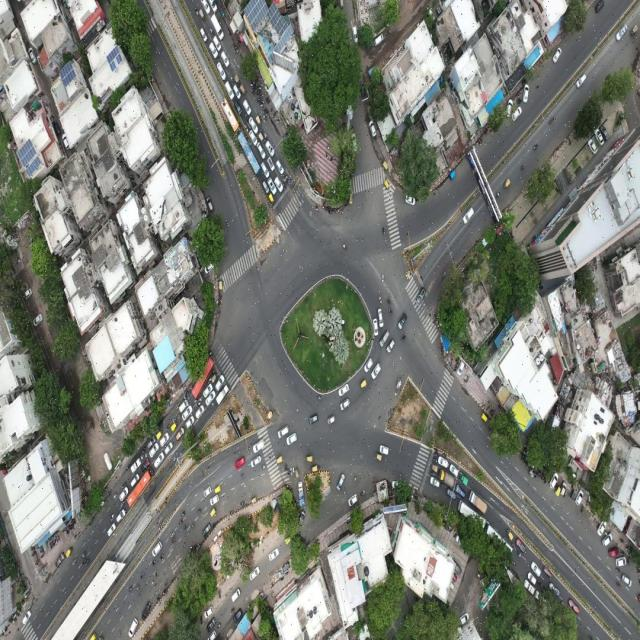3W: (629, 18, 640, 37), (477, 410, 489, 426), (501, 177, 513, 191), (272, 451, 284, 464), (505, 525, 514, 542), (64, 544, 74, 559), (216, 276, 225, 292), (198, 5, 206, 23), (303, 452, 314, 465), (170, 419, 180, 433), (449, 170, 459, 184), (569, 488, 578, 503), (309, 464, 321, 475), (373, 450, 384, 462), (357, 378, 369, 389), (382, 160, 392, 173), (382, 178, 391, 192), (213, 482, 223, 494), (283, 534, 292, 547), (234, 71, 241, 87), (248, 496, 259, 506), (429, 462, 439, 473), (155, 427, 164, 439), (211, 371, 218, 385), (258, 132, 265, 146), (240, 84, 247, 98), (554, 486, 562, 498), (268, 193, 275, 206), (89, 630, 98, 640), (209, 506, 216, 518), (295, 466, 301, 480), (256, 116, 262, 128)
Bus: (189, 352, 218, 402), (125, 464, 156, 509), (237, 130, 263, 176), (484, 520, 513, 558), (457, 498, 487, 530), (222, 96, 240, 134)
Cars: (566, 593, 580, 615), (452, 480, 467, 500), (615, 21, 629, 42), (224, 76, 235, 102), (462, 206, 475, 226), (551, 44, 564, 64), (586, 137, 599, 157), (529, 558, 542, 578), (141, 599, 152, 622), (335, 471, 346, 494), (592, 127, 604, 148), (128, 614, 138, 639), (234, 453, 247, 472), (415, 287, 426, 309), (201, 380, 213, 400), (596, 518, 608, 538), (205, 616, 218, 634), (514, 536, 527, 554), (397, 310, 408, 331), (21, 607, 33, 626), (54, 550, 66, 569), (118, 484, 130, 503), (252, 438, 266, 454), (277, 423, 290, 440), (548, 582, 561, 599), (380, 329, 391, 349), (216, 62, 227, 82), (274, 172, 284, 194), (267, 176, 278, 196), (368, 118, 378, 140), (286, 430, 298, 448), (205, 194, 215, 215), (256, 139, 266, 160), (154, 452, 165, 471), (371, 362, 382, 381), (208, 41, 219, 60), (337, 382, 350, 398), (575, 74, 588, 90), (620, 572, 633, 588), (350, 131, 359, 154), (505, 97, 514, 120), (542, 563, 554, 580), (214, 373, 224, 393), (152, 540, 163, 558), (248, 116, 259, 134), (106, 522, 118, 538), (203, 604, 215, 620), (264, 140, 276, 156), (404, 191, 416, 207), (511, 106, 523, 122), (549, 471, 559, 490), (374, 32, 385, 49), (599, 125, 610, 142), (455, 359, 466, 376), (522, 82, 530, 105), (249, 455, 262, 469), (600, 534, 614, 547), (607, 544, 620, 558), (614, 555, 627, 569), (175, 424, 185, 442), (202, 522, 212, 540), (249, 566, 261, 581), (230, 588, 242, 603), (308, 412, 320, 427), (340, 397, 352, 412), (200, 0, 212, 15), (116, 510, 127, 526), (371, 318, 379, 340), (574, 490, 585, 506), (526, 570, 537, 586), (234, 99, 243, 118), (261, 160, 270, 179), (140, 456, 150, 473), (164, 439, 174, 456), (234, 608, 244, 625), (364, 357, 374, 374), (386, 337, 396, 354), (437, 456, 450, 469), (428, 476, 441, 489), (208, 493, 220, 507), (347, 493, 359, 507), (351, 25, 359, 46), (594, 0, 606, 14), (159, 432, 170, 447), (182, 405, 193, 420), (269, 548, 280, 563), (446, 487, 457, 502), (232, 82, 241, 100), (249, 129, 258, 147), (276, 158, 285, 176), (130, 472, 140, 488), (150, 442, 160, 458), (205, 393, 217, 406), (379, 445, 391, 458), (202, 485, 213, 499), (243, 99, 252, 116), (262, 179, 271, 196), (298, 508, 306, 527), (208, 0, 218, 15), (449, 462, 459, 477), (200, 26, 208, 44), (213, 36, 222, 52), (221, 52, 230, 68), (267, 156, 276, 172), (358, 80, 366, 98), (194, 405, 205, 418), (146, 434, 156, 448), (207, 628, 218, 640), (185, 416, 195, 429), (326, 414, 336, 427), (560, 481, 567, 499), (378, 306, 383, 329)
LCV: (210, 11, 226, 41), (295, 478, 308, 508), (522, 575, 536, 598), (217, 386, 230, 406), (176, 394, 189, 414), (129, 455, 142, 474), (459, 471, 470, 487)
M2W: (138, 566, 145, 582), (548, 114, 557, 126), (141, 440, 148, 454), (134, 581, 142, 593), (531, 142, 540, 152), (313, 394, 323, 403), (437, 478, 445, 489), (400, 332, 407, 344), (71, 557, 79, 567), (113, 489, 119, 501), (224, 218, 230, 230), (625, 554, 631, 566), (227, 605, 236, 613), (128, 583, 135, 593), (380, 272, 386, 283), (495, 190, 501, 201), (291, 464, 296, 477), (194, 507, 202, 515), (80, 550, 87, 559), (353, 475, 360, 484), (121, 480, 127, 490), (178, 412, 184, 422), (175, 400, 181, 410), (216, 309, 221, 321), (209, 26, 215, 36), (258, 124, 263, 136), (382, 224, 387, 236), (516, 549, 522, 559), (359, 488, 365, 498), (150, 558, 156, 568), (377, 294, 383, 304), (108, 513, 115, 521), (429, 468, 436, 476), (180, 510, 187, 518), (169, 530, 176, 538), (194, 6, 199, 17), (31, 550, 37, 559), (144, 452, 150, 461), (520, 163, 526, 172), (386, 297, 392, 306), (616, 580, 622, 589), (510, 541, 516, 550), (216, 621, 222, 630), (229, 74, 234, 84), (442, 269, 447, 279), (479, 134, 484, 144), (41, 563, 48, 570), (177, 519, 184, 526), (152, 571, 159, 578), (81, 558, 87, 566), (71, 517, 77, 525), (271, 110, 277, 118), (342, 243, 348, 251), (615, 566, 621, 574), (537, 579, 543, 587), (239, 472, 245, 480), (183, 525, 189, 533), (85, 557, 90, 566), (126, 463, 131, 472), (388, 307, 393, 316), (579, 504, 584, 513), (511, 559, 516, 568), (34, 559, 40, 566), (120, 500, 126, 507), (166, 423, 172, 430), (210, 370, 216, 377), (256, 89, 262, 96), (276, 118, 283, 124), (619, 537, 625, 544), (432, 457, 438, 464), (267, 455, 273, 462), (228, 509, 234, 516), (190, 522, 196, 529), (170, 537, 176, 544), (49, 541, 53, 551), (51, 539, 55, 549), (56, 535, 60, 545), (172, 416, 176, 426), (247, 121, 251, 131), (264, 130, 268, 140), (477, 138, 482, 146), (284, 461, 288, 471), (66, 527, 70, 536), (198, 395, 204, 401), (207, 376, 211, 385), (226, 13, 230, 22), (244, 112, 248, 121), (245, 124, 249, 133), (620, 550, 626, 556), (588, 634, 594, 640), (433, 452, 439, 458), (290, 466, 293, 478), (260, 465, 266, 471), (240, 500, 246, 506), (196, 401, 201, 408), (233, 42, 238, 49), (250, 88, 255, 95), (386, 30, 391, 37), (517, 99, 522, 106), (625, 544, 630, 551), (442, 451, 447, 458), (68, 524, 72, 532), (141, 453, 145, 461), (227, 28, 231, 36), (255, 86, 259, 94), (258, 113, 262, 121), (288, 178, 292, 186), (285, 174, 289, 182), (282, 182, 286, 190), (531, 464, 535, 472), (40, 553, 46, 558), (54, 537, 57, 547), (207, 351, 213, 356), (258, 84, 263, 90), (260, 101, 265, 107), (436, 318, 439, 328), (488, 428, 493, 434), (538, 468, 541, 478), (287, 468, 290, 478), (264, 96, 268, 103), (263, 114, 267, 121), (314, 205, 318, 212), (160, 554, 164, 561), (189, 546, 193, 553), (489, 407, 492, 416), (250, 81, 255, 86), (71, 524, 75, 530), (183, 390, 187, 396), (194, 399, 198, 405), (251, 84, 257, 88), (266, 99, 270, 105), (270, 107, 274, 113), (534, 472, 538, 478), (186, 391, 191, 395), (234, 50, 239, 54), (483, 398, 485, 408), (526, 457, 528, 467), (190, 384, 193, 390), (256, 99, 262, 102), (264, 110, 267, 116), (517, 93, 520, 99), (284, 176, 286, 184), (522, 454, 524, 462), (523, 456, 525, 464), (545, 477, 547, 485), (183, 397, 187, 400), (542, 474, 544, 480)
Truck: (466, 487, 488, 517), (438, 468, 456, 488)
